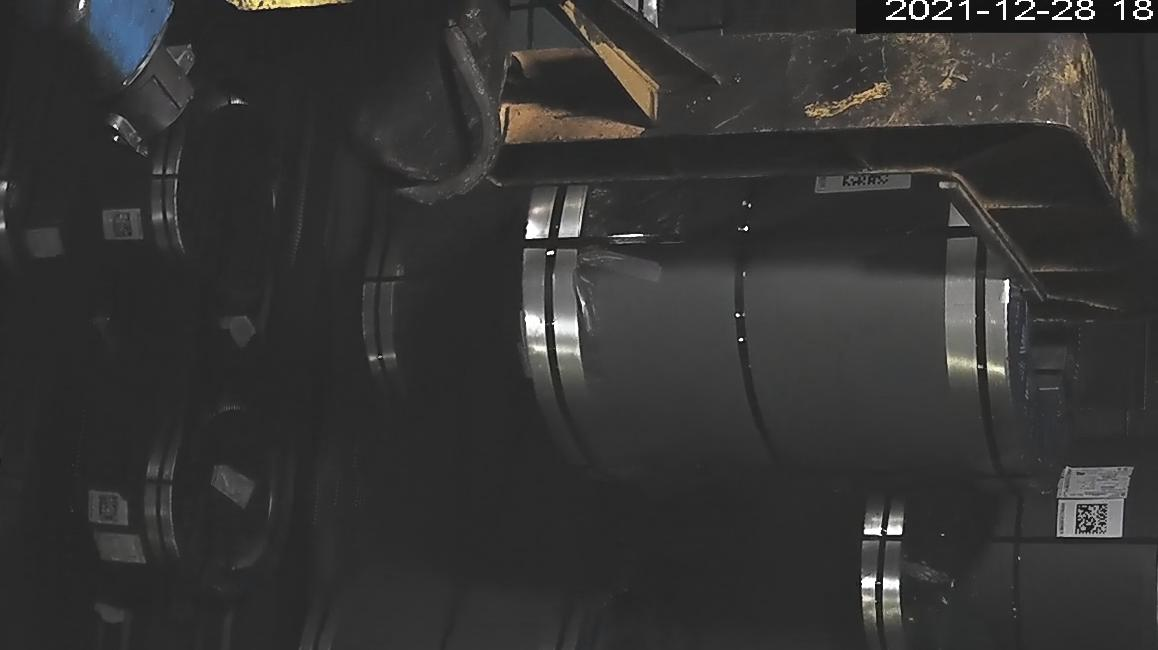data matrix: (1075, 503, 1110, 539), (94, 493, 125, 526), (109, 210, 138, 242)
